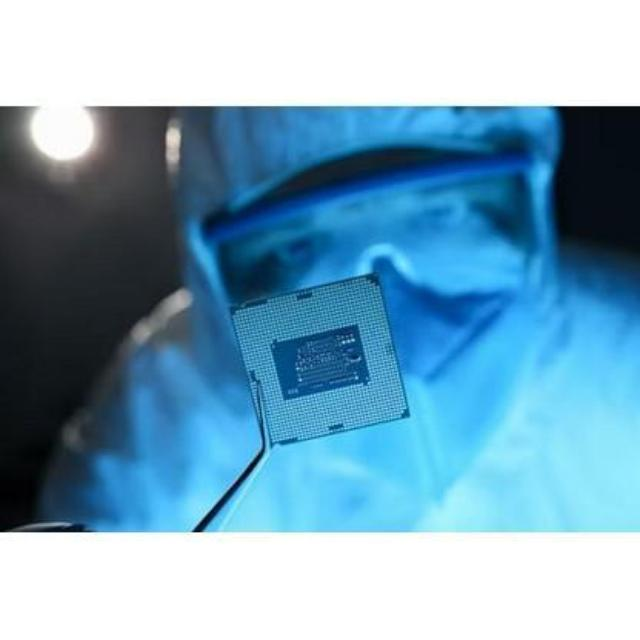CPU: (226, 274, 411, 448)
